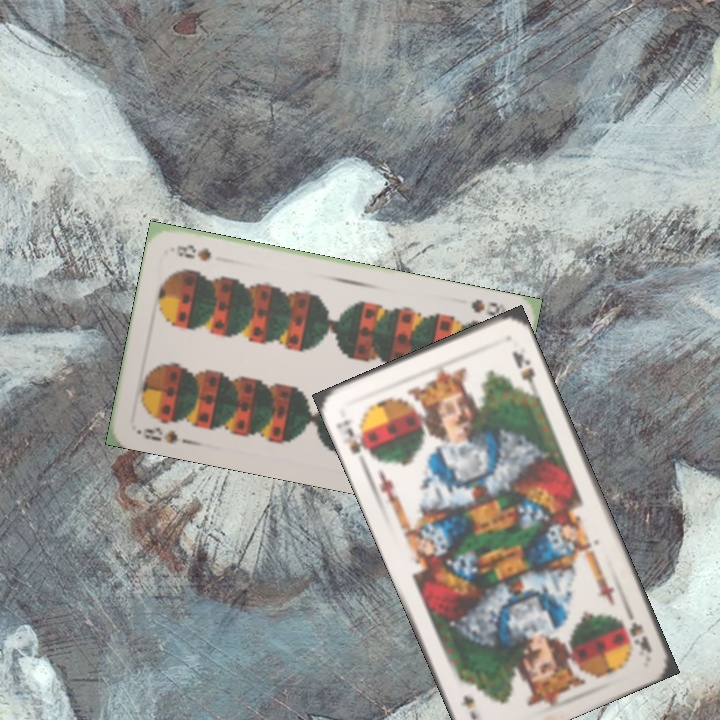S8: (133, 423, 181, 446), (467, 295, 509, 320)
SK: (332, 415, 375, 461), (623, 607, 655, 655)
